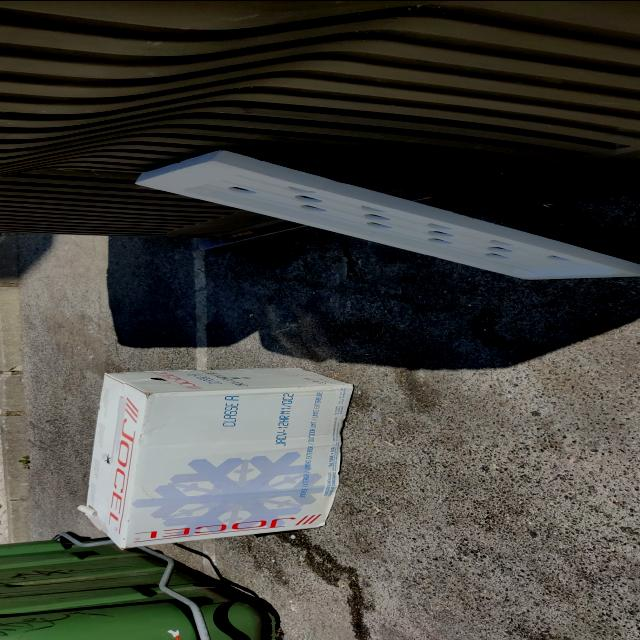Corrugated carton: (78, 367, 354, 548)
Styrofoam piece: (135, 149, 640, 279)
